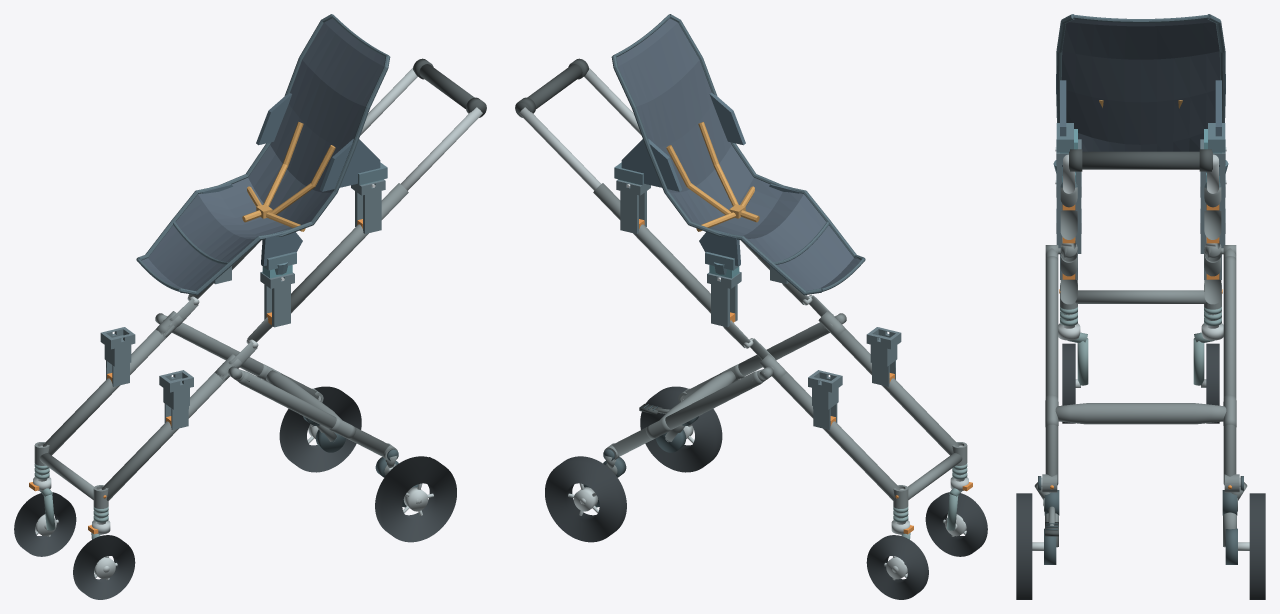
The model's file is S01_w380_state1_wheel_S.glb.
3 views of the same model, side by side, from view 1: azimuth 30°, elevation 25°; view 2: azimuth 150°, elevation 25°; view 3: azimuth 270°, elevation 25° (orthographic). The views are drawn at different scales.
Parts seen in each view (by area): view 1: S01_Cabin, RL_tire.009, RR_tire.009, FL_tire.009, FR_tire.009, main_lower_-1, main_lower_1, V46_rear_leg_-1.002, main_upper_-1, Universal_Cabin_Receiver_L_1, Universal_Cabin_Receiver_L_-1, V46_rear_leg_1.002 (+8 smaller); view 2: S01_Cabin, RR_tire.009, RL_tire.009, FR_tire.009, FL_tire.009, main_lower_1, main_lower_-1, V46_rear_leg_1.002, main_upper_1, Universal_Cabin_Receiver_L_-1, Universal_Cabin_Receiver_L_1, V46_rear_leg_-1.002 (+8 smaller); view 3: S01_Cabin, V46_rearbar.002, V46_rear_leg_1.002, V46_rear_leg_-1.002, round_handle.010, RL_tire.009, RR_tire.009, front_fixed_round_tube, S01_Cabin_Mount_H, FL_tire.009, FR_tire.009, main_upper_1 (+16 smaller).
Part boxes in pixels (left/top/right/bottom): S01_Cabin: left=136, top=14, right=390, bottom=295; RL_tire.009: left=375, top=456, right=456, bottom=542; RR_tire.009: left=279, top=386, right=361, bottom=472; FL_tire.009: left=73, top=535, right=135, bottom=599; FR_tire.009: left=14, top=492, right=76, bottom=556; main_lower_-1: left=101, top=372, right=228, bottom=501; main_lower_1: left=42, top=325, right=174, bottom=455; V46_rear_leg_-1.002: left=238, top=371, right=389, bottom=456; main_upper_-1: left=291, top=183, right=408, bottom=313; Universal_Cabin_Receiver_L_1: left=100, top=327, right=135, bottom=386; Universal_Cabin_Receiver_L_-1: left=159, top=370, right=193, bottom=429; V46_rear_leg_1.002: left=172, top=322, right=318, bottom=399; S01_Cabin: left=611, top=14, right=865, bottom=295; RR_tire.009: left=545, top=456, right=626, bottom=542; RL_tire.009: left=640, top=386, right=722, bottom=472; FR_tire.009: left=866, top=535, right=928, bottom=599; FL_tire.009: left=925, top=492, right=987, bottom=556; main_lower_1: left=773, top=372, right=900, bottom=501; main_lower_-1: left=827, top=325, right=959, bottom=455; V46_rear_leg_1.002: left=612, top=371, right=763, bottom=456; main_upper_1: left=593, top=183, right=710, bottom=313; Universal_Cabin_Receiver_L_-1: left=866, top=327, right=901, bottom=386; Universal_Cabin_Receiver_L_1: left=808, top=370, right=842, bottom=429; V46_rear_leg_-1.002: left=683, top=322, right=829, bottom=399; S01_Cabin: left=1056, top=14, right=1225, bottom=166; V46_rearbar.002: left=1055, top=403, right=1226, bottom=424; V46_rear_leg_1.002: left=1223, top=256, right=1236, bottom=485; V46_rear_leg_-1.002: left=1045, top=256, right=1058, bottom=485; round_handle.010: left=1069, top=151, right=1212, bottom=169; RL_tire.009: left=1016, top=493, right=1032, bottom=599; RR_tire.009: left=1249, top=493, right=1265, bottom=599; front_fixed_round_tube: left=1075, top=290, right=1206, bottom=303; S01_Cabin_Mount_H: left=1055, top=123, right=1226, bottom=153; FL_tire.009: left=1062, top=343, right=1075, bottom=423; FR_tire.009: left=1206, top=343, right=1219, bottom=423; main_upper_1: left=1204, top=182, right=1221, bottom=239.
Bounding box in the file's own units: 1.09 × 1.19 × 0.4671.
